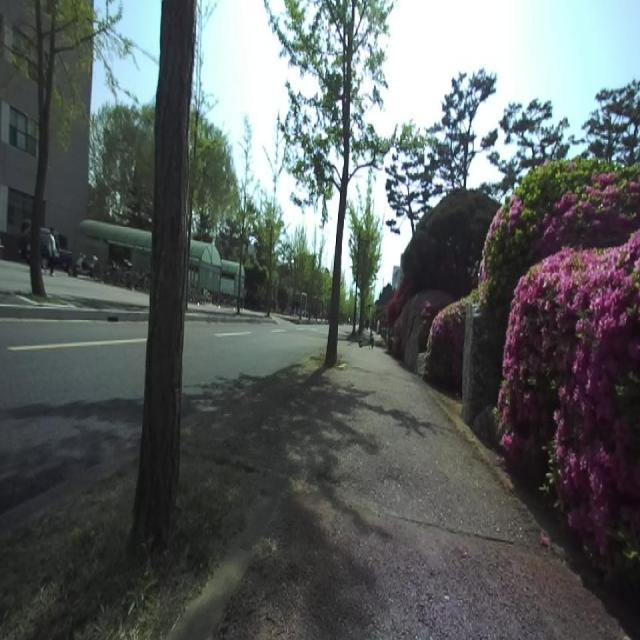sidewalk: (185, 343, 626, 639)
